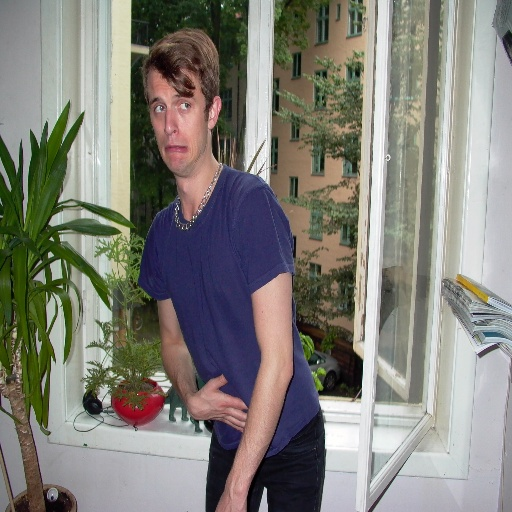hand: (183, 362, 265, 425), (213, 494, 248, 511)
